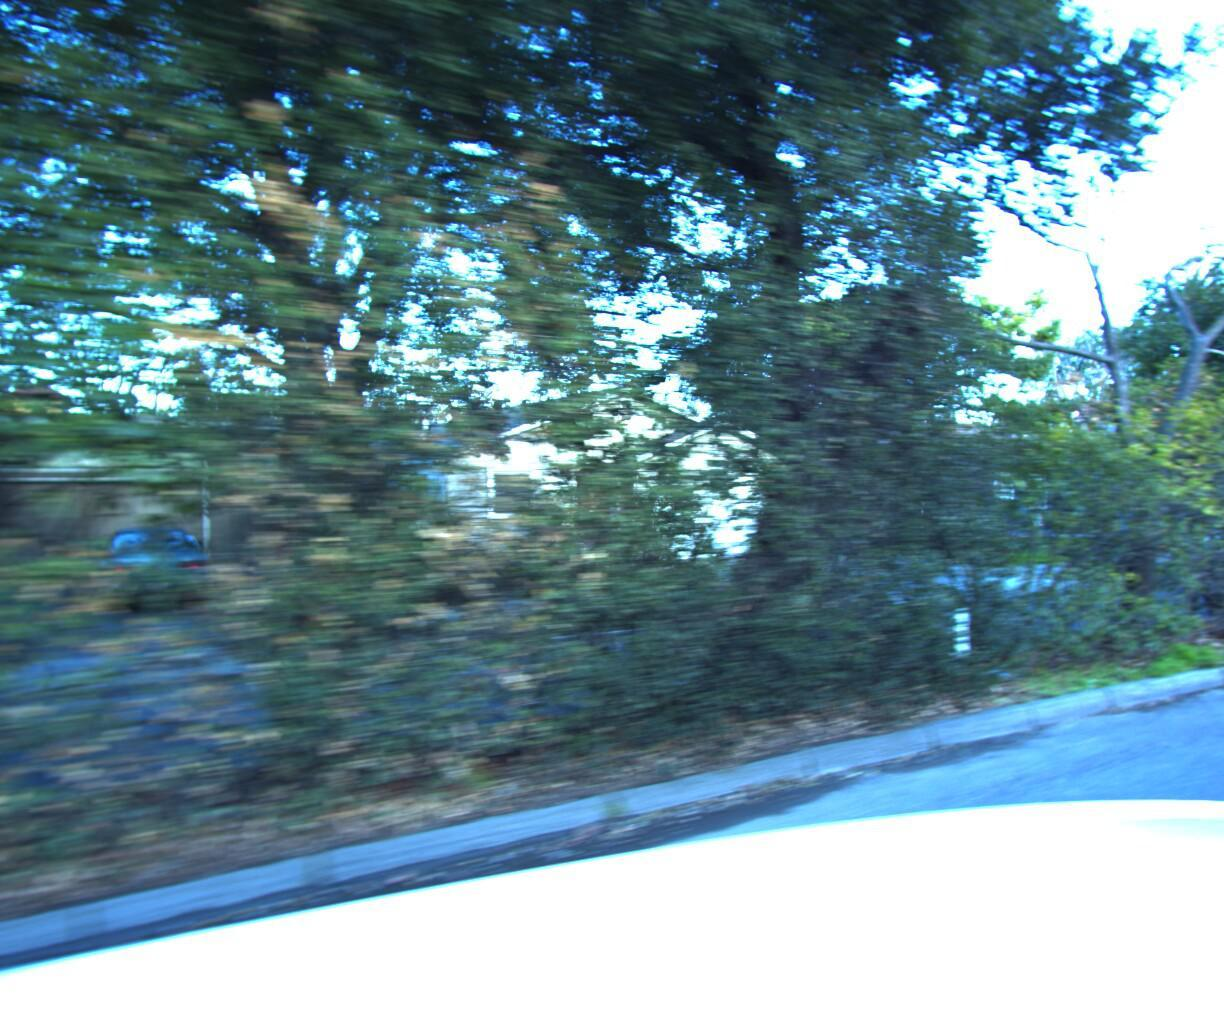car: (81, 516, 213, 620)
